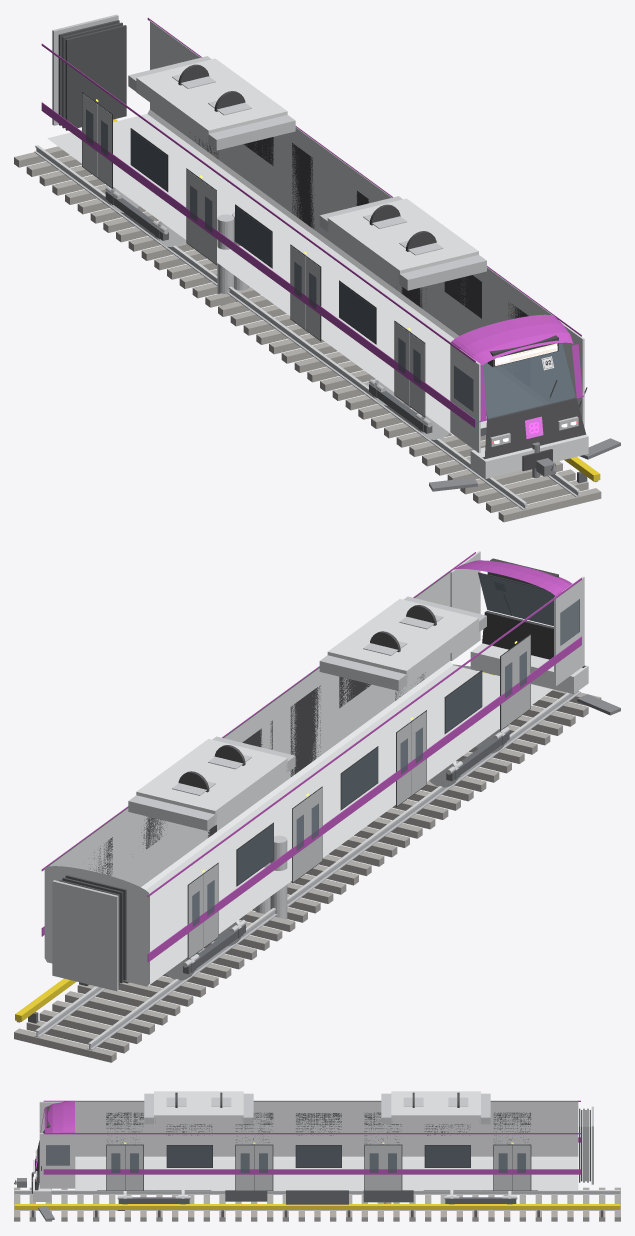
The model's file is metro_purple.glb.
3 renders of one model, top to bottom at view 1: azimuth 30°, elevation 25°; view 2: azimuth 150°, elevation 25°; view 3: azimuth 270°, elevation 25°, orthographic. The views are drawn at different scales.
Visible parts, largest first — view 1: geometry_0, geometry_93, geometry_100, geometry_174, geometry_75, geometry_1, geometry_69, geometry_70, geometry_65, geometry_71, geometry_101, geometry_181 (+27 smaller); view 2: geometry_0, geometry_180, geometry_93, geometry_100, geometry_1, geometry_75, geometry_65, geometry_70, geometry_35, geometry_71, geometry_66, geometry_102 (+29 smaller); view 3: geometry_0, geometry_226, geometry_2, geometry_93, geometry_100, geometry_66, geometry_182, geometry_55, geometry_59, geometry_63, geometry_4, geometry_60 (+36 smaller).
Boxes of the visible parts, <box> form: geometry_0: <box>47,19,553,435</box>; geometry_93: <box>136,58,287,145</box>; geometry_100: <box>327,198,478,284</box>; geometry_174: <box>65,25,126,130</box>; geometry_75: <box>481,343,575,418</box>; geometry_1: <box>41,102,475,428</box>; geometry_69: <box>451,314,584,422</box>; geometry_70: <box>482,398,586,459</box>; geometry_65: <box>450,345,480,452</box>; geometry_71: <box>470,434,588,478</box>; geometry_101: <box>398,255,486,290</box>; geometry_181: <box>34,151,528,509</box>; geometry_0: <box>44,570,552,986</box>; geometry_180: <box>52,880,118,991</box>; geometry_93: <box>136,739,287,825</box>; geometry_100: <box>327,599,478,685</box>; geometry_1: <box>147,636,581,962</box>; geometry_75: <box>478,572,554,626</box>; geometry_65: <box>554,576,584,686</box>; geometry_70: <box>482,611,585,667</box>; geometry_35: <box>290,685,320,776</box>; geometry_71: <box>470,643,588,694</box>; geometry_66: <box>450,551,480,660</box>; geometry_102: <box>319,655,408,690</box>; geometry_0: <box>75,1100,578,1190</box>; geometry_226: <box>14,1204,620,1209</box>; geometry_2: <box>43,1169,580,1174</box>; geometry_93: <box>391,1091,480,1124</box>; geometry_100: <box>154,1091,243,1124</box>; geometry_66: <box>39,1133,75,1188</box>; geometry_182: <box>14,1191,620,1193</box>; geometry_55: <box>424,1145,470,1167</box>; geometry_59: <box>295,1145,341,1167</box>; geometry_63: <box>166,1145,212,1167</box>; geometry_4: <box>43,1133,580,1134</box>; geometry_60: <box>296,1145,341,1167</box>.
Bounding box in the file's own units: 5.11 × 4.88 × 23.04.
19 materials, 3 textured.
